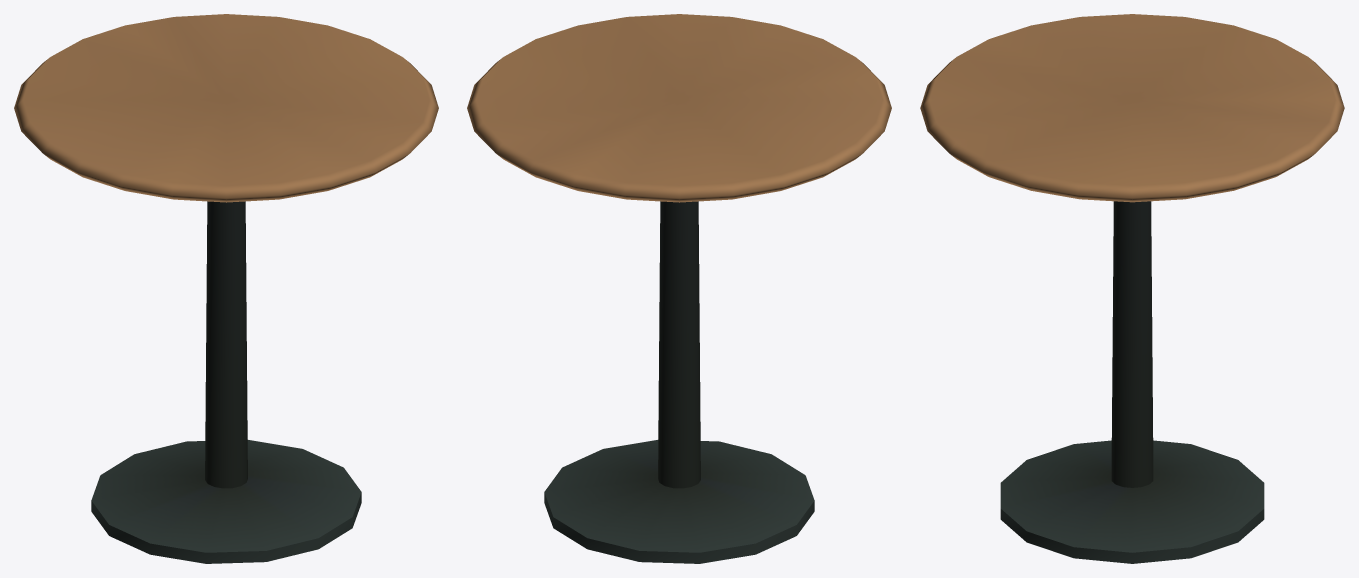
Rendered from ban-ca-phe.glb.
3 views of the same model, side by side, from view 1: azimuth 30°, elevation 25°; view 2: azimuth 150°, elevation 25°; view 3: azimuth 270°, elevation 25° (orthographic).
Visible parts, largest first — view 1: ban-ca-phe; view 2: ban-ca-phe; view 3: ban-ca-phe.
Boxes of the visible parts, x1,y1,x2,y2 form: ban-ca-phe: (14,14,438,563); ban-ca-phe: (467,14,891,563); ban-ca-phe: (920,14,1344,563).
Size of the model in its own units: 0.69 by 0.73 by 0.69.
